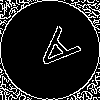A: (25, 25, 82, 81)
